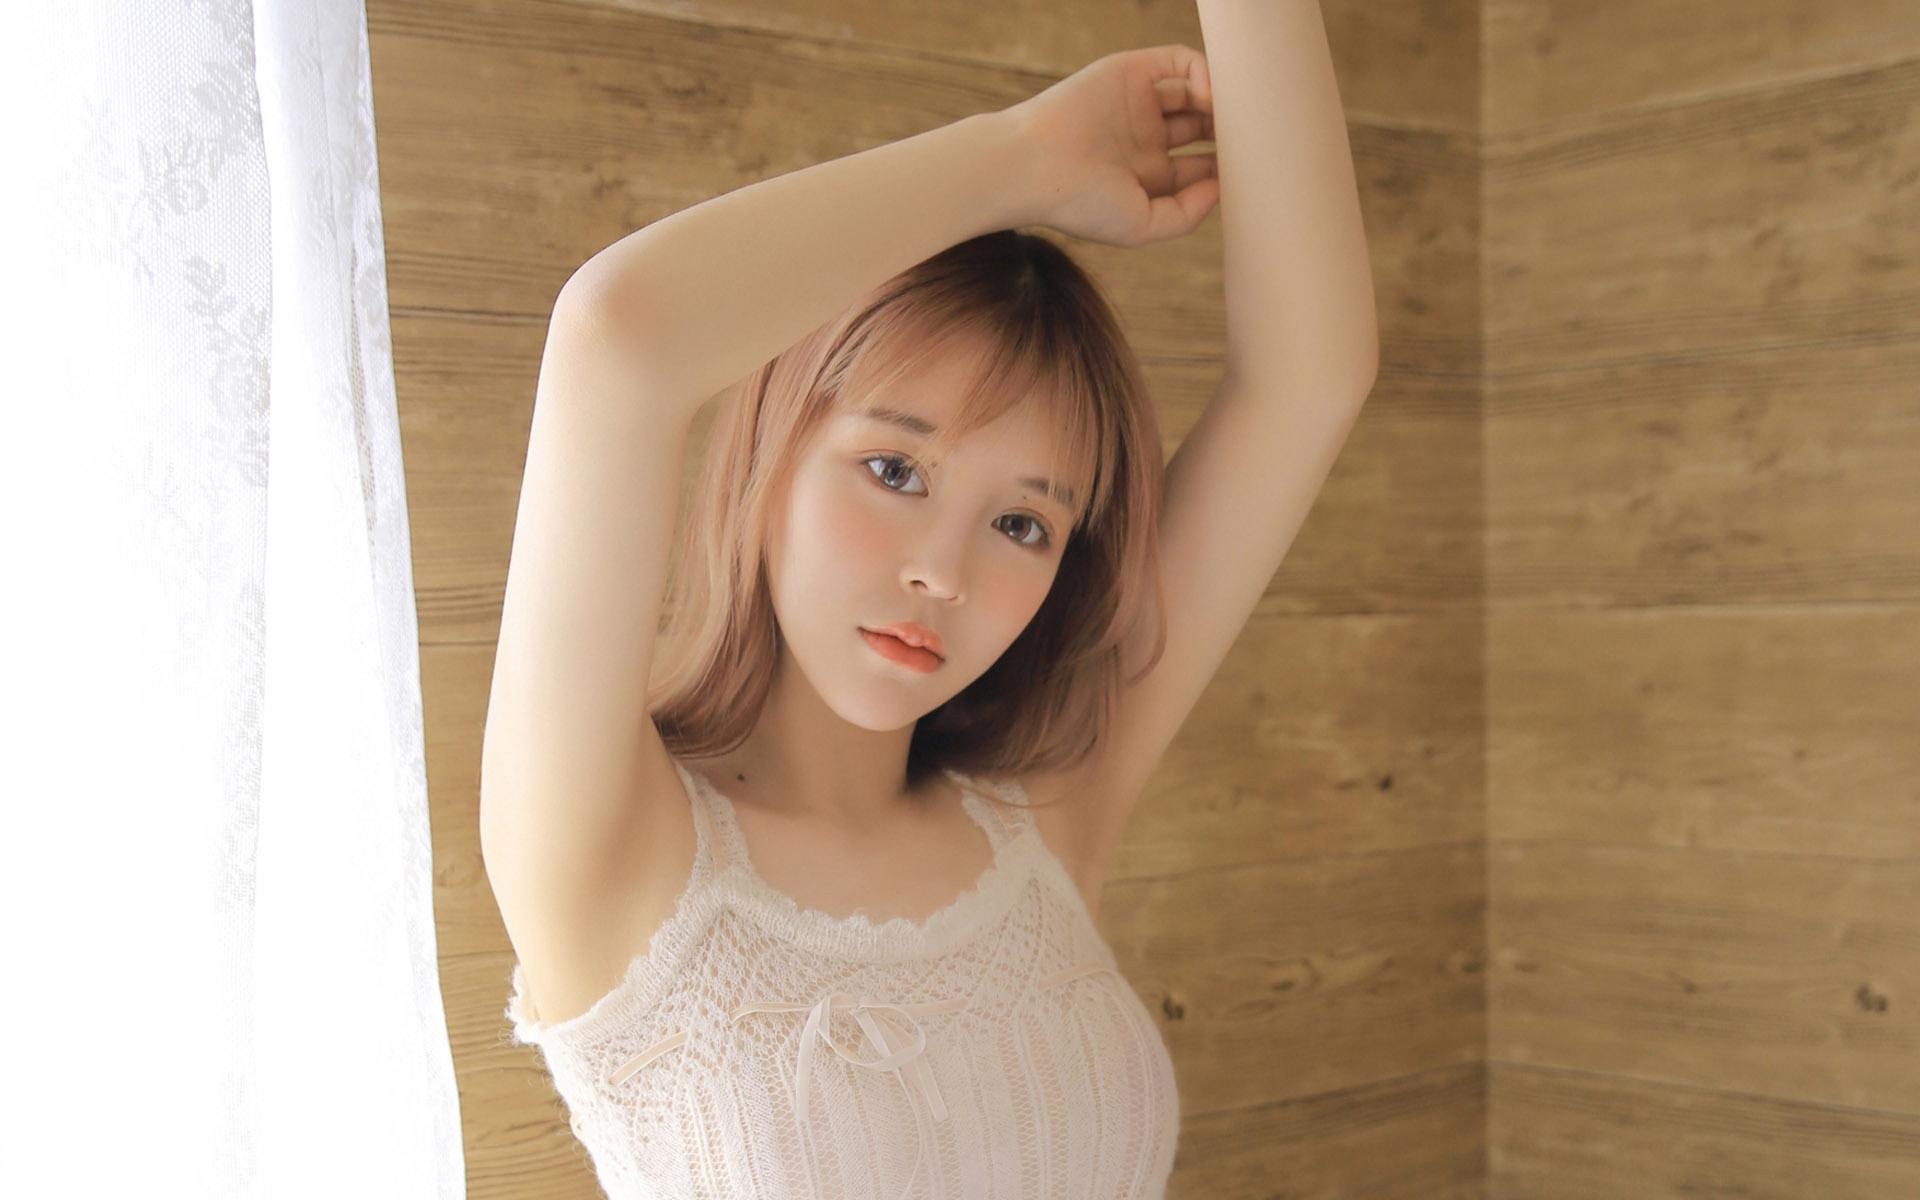person: (525, 70, 1502, 1200)
